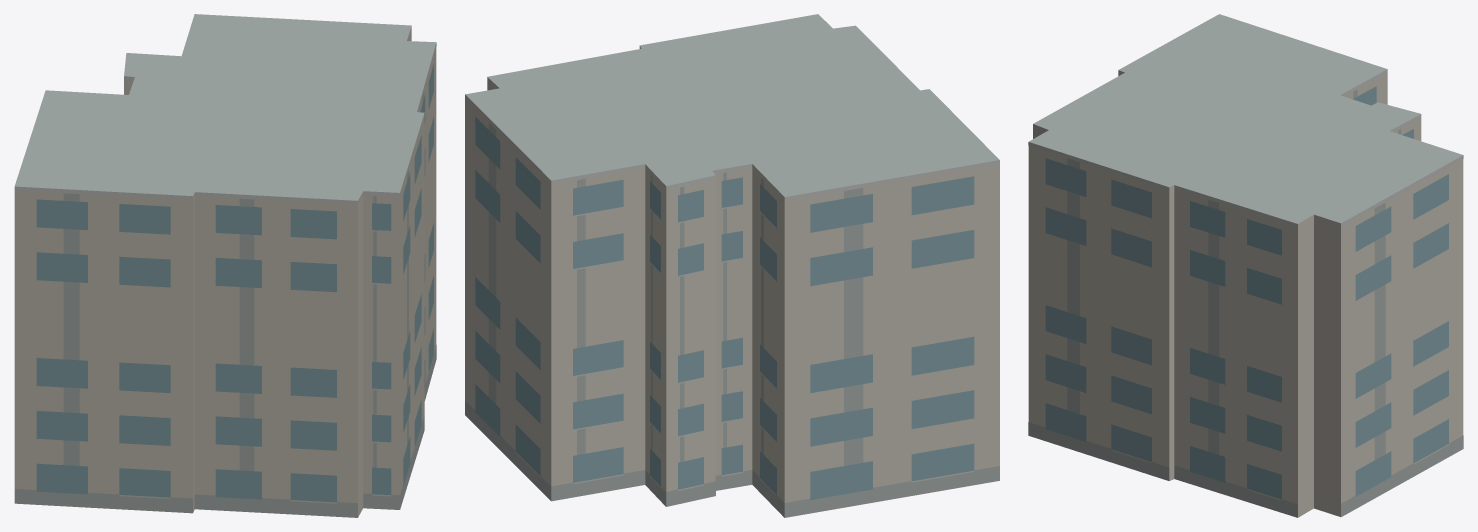
File: survey-upis-32991679.glb
The picture shows the model from 3 angles, left to right: view 1: azimuth 30°, elevation 25°; view 2: azimuth 150°, elevation 25°; view 3: azimuth 270°, elevation 25°; orthographic projection. The views are drawn at different scales.
Parts seen in each view (by area): view 1: survey-upis-32991679.tmp; view 2: survey-upis-32991679.tmp; view 3: survey-upis-32991679.tmp.
Boxes of the visible parts, x1,y1,x2,y2 form: survey-upis-32991679.tmp: (14,14,436,517); survey-upis-32991679.tmp: (465,14,999,517); survey-upis-32991679.tmp: (1028,14,1463,517).
Size of the model in its own units: 28.36 by 18.5 by 24.82.
